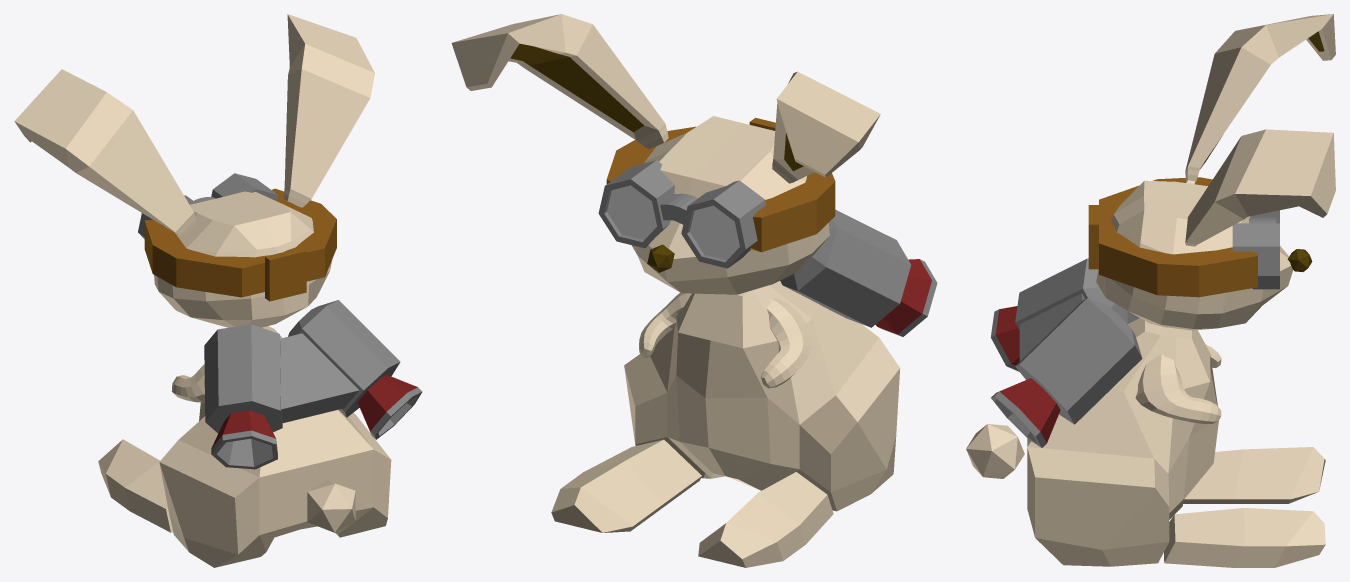
The model's file is Rocket Rabbit.fbx.
3 views of the same model, side by side, from view 1: azimuth 30°, elevation 25°; view 2: azimuth 150°, elevation 25°; view 3: azimuth 270°, elevation 25° (orthographic). The views are drawn at different scales.
Parts seen in each view (by area): view 1: CORPO, Jetpack, Orecchio SX, Orecchio DX, TESTA, occhiali, Piede sx, CODA, arti superiori; view 2: CORPO, occhiali, TESTA, Orecchio DX, Jetpack, Piede dx., Orecchio SX, Piede sx, arti superiori; view 3: CORPO, Jetpack, occhiali, TESTA, Orecchio DX, Piede dx., Orecchio SX, Piede sx, arti superiori, CODA.
Part boxes in pixels (left/top/right/bottom): CORPO: left=159, top=326, right=391, bottom=567; Jetpack: left=204, top=300, right=422, bottom=469; Orecchio SX: left=14, top=69, right=196, bottom=236; Orecchio DX: left=284, top=14, right=374, bottom=207; TESTA: left=154, top=191, right=332, bottom=327; occhiali: left=138, top=173, right=336, bottom=301; Piede sx: left=98, top=439, right=172, bottom=532; CODA: left=307, top=480, right=355, bottom=532; arti superiori: left=171, top=364, right=204, bottom=402; CORPO: left=624, top=281, right=900, bottom=511; occhiali: left=598, top=117, right=835, bottom=268; TESTA: left=631, top=116, right=829, bottom=294; Orecchio DX: left=451, top=14, right=668, bottom=149; Jetpack: left=780, top=209, right=937, bottom=336; Piede dx.: left=551, top=439, right=701, bottom=532; Orecchio SX: left=772, top=71, right=880, bottom=183; Piede sx: left=698, top=472, right=833, bottom=567; arti superiori: left=639, top=292, right=811, bottom=388; CORPO: left=1027, top=318, right=1218, bottom=566; Jetpack: left=990, top=258, right=1142, bottom=447; occhiali: left=1088, top=177, right=1279, bottom=297; TESTA: left=1096, top=180, right=1293, bottom=330; Orecchio DX: left=1185, top=129, right=1335, bottom=246; Piede dx.: left=1164, top=508, right=1325, bottom=567; Orecchio SX: left=1185, top=14, right=1335, bottom=184; Piede sx: left=1183, top=447, right=1325, bottom=503; arti superiori: left=1135, top=344, right=1221, bottom=423; CODA: left=966, top=424, right=1024, bottom=478.
Bounding box in the file's own units: 406 × 470 × 353.
